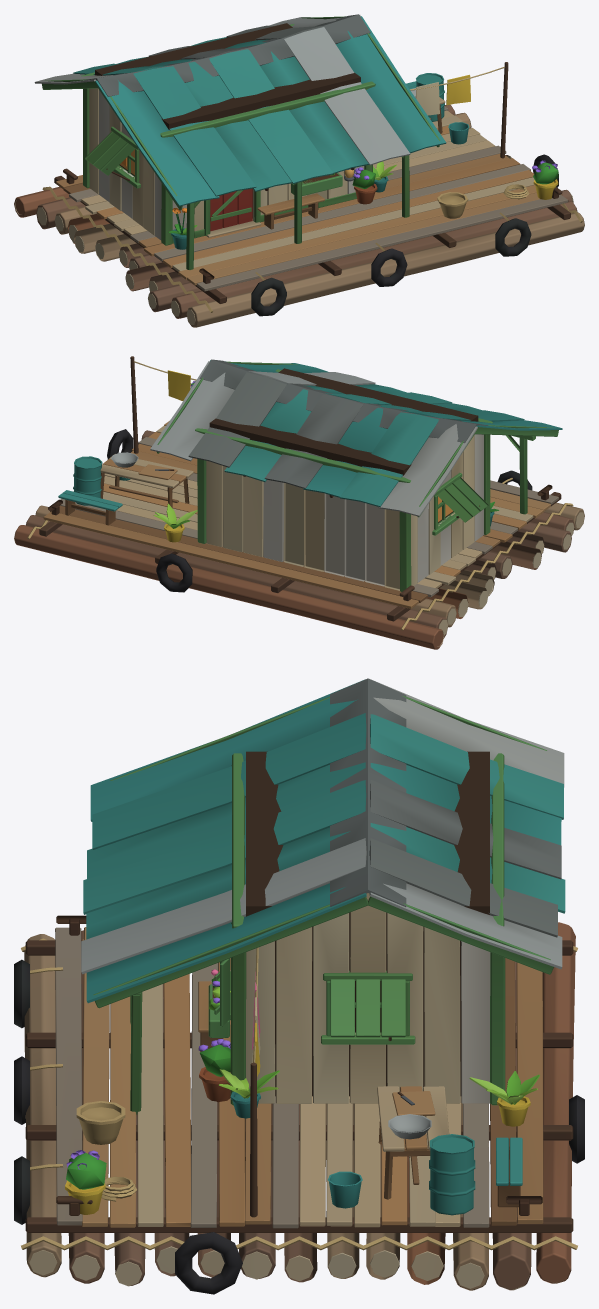
File: floating_house_b-DS9EzrAL.glb
The picture shows the model from 3 angles, top to bottom: view 1: azimuth 30°, elevation 25°; view 2: azimuth 150°, elevation 25°; view 3: azimuth 270°, elevation 25°; orthographic projection. The views are drawn at different scales.
Visible parts, largest first — view 1: floating_house_b; view 2: floating_house_b; view 3: floating_house_b.
Part boxes in pixels (left/top/right/bottom): floating_house_b: left=14, top=14, right=584, bottom=327; floating_house_b: left=14, top=356, right=584, bottom=649; floating_house_b: left=14, top=678, right=584, bottom=1294.
Bounding box in the file's own units: 10.64 × 4.32 × 7.49.
